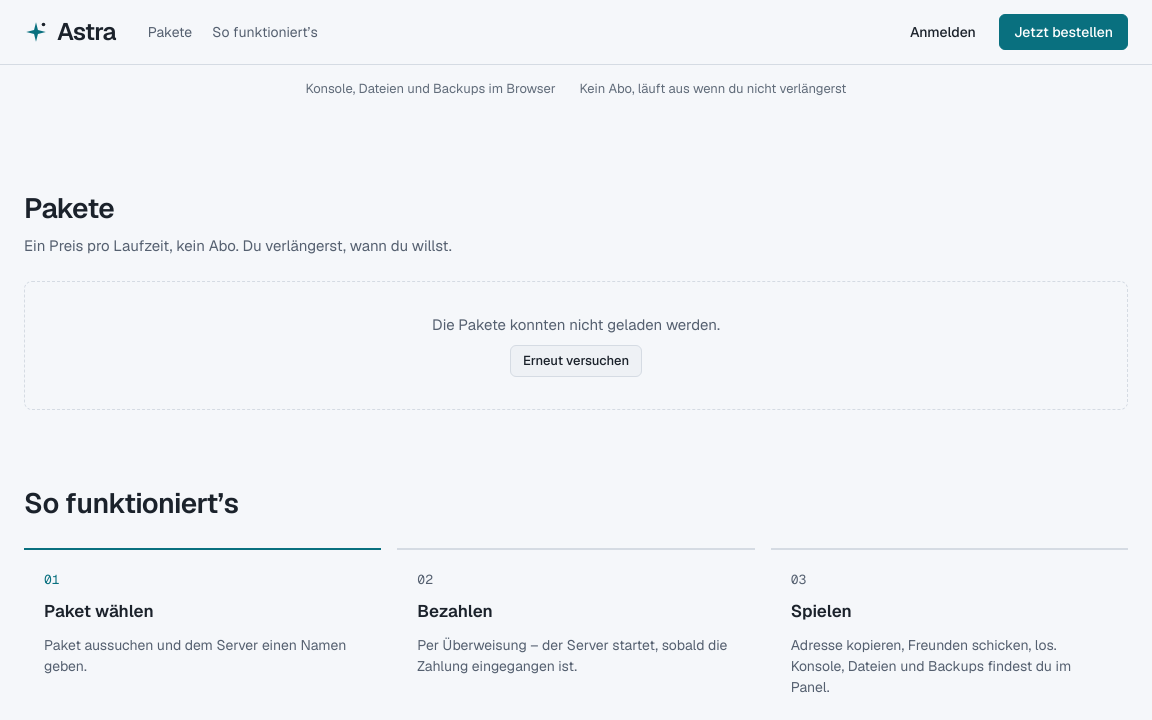
Test: LandingPage › zeigt bei Ladefehler eine Meldung mit erneutem Versuch und bei leerem Angebot einen Hinweis
This screenshot has width=1152, height=720.
(page scrolled)
Expected: the message shows "Die Pakete konnten nicht geladen werden.", [432,315,720,334]
Click the button "Erneut versuchen" at (576, 361), box [510,345,642,377]
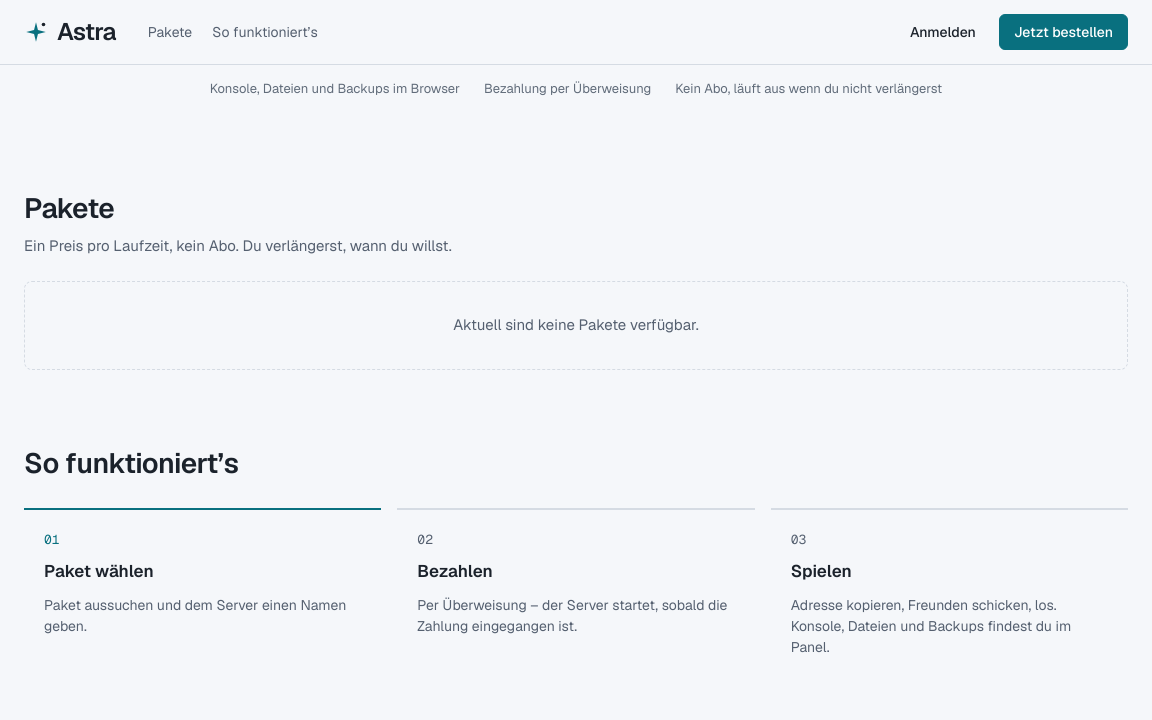
Expected: the text "Aktuell sind keine Pakete verfügbar." is shown, [24,281,1128,370]
